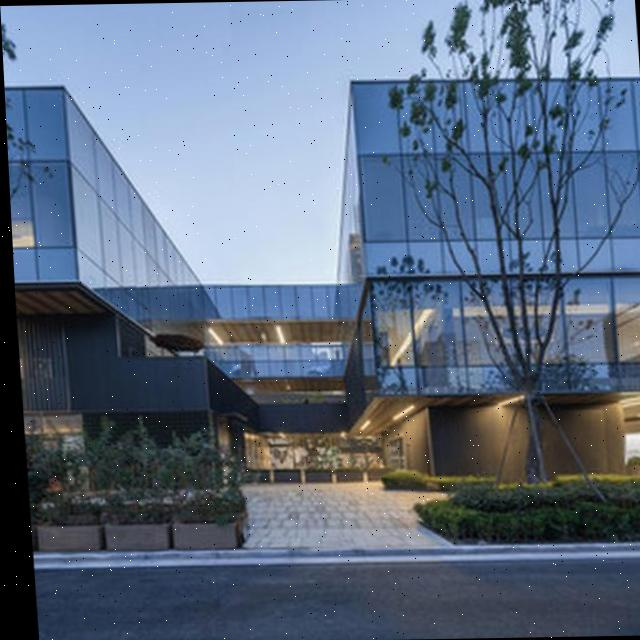building: (4, 69, 640, 494)
